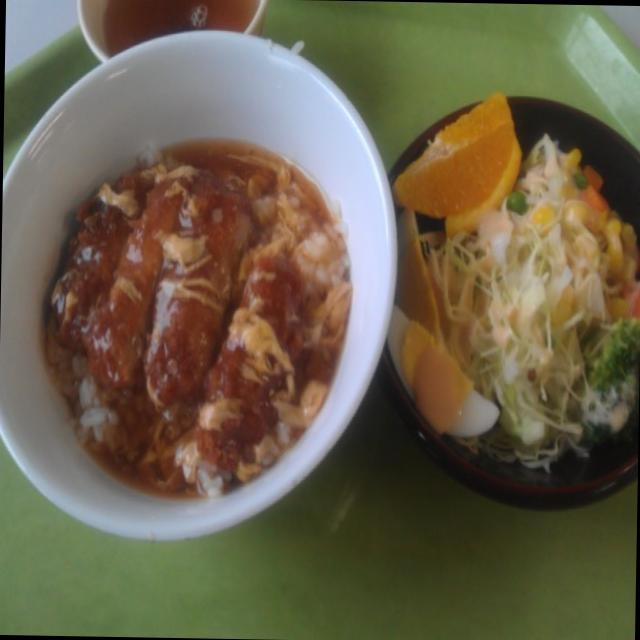Green Salad: (411, 144, 638, 478)
